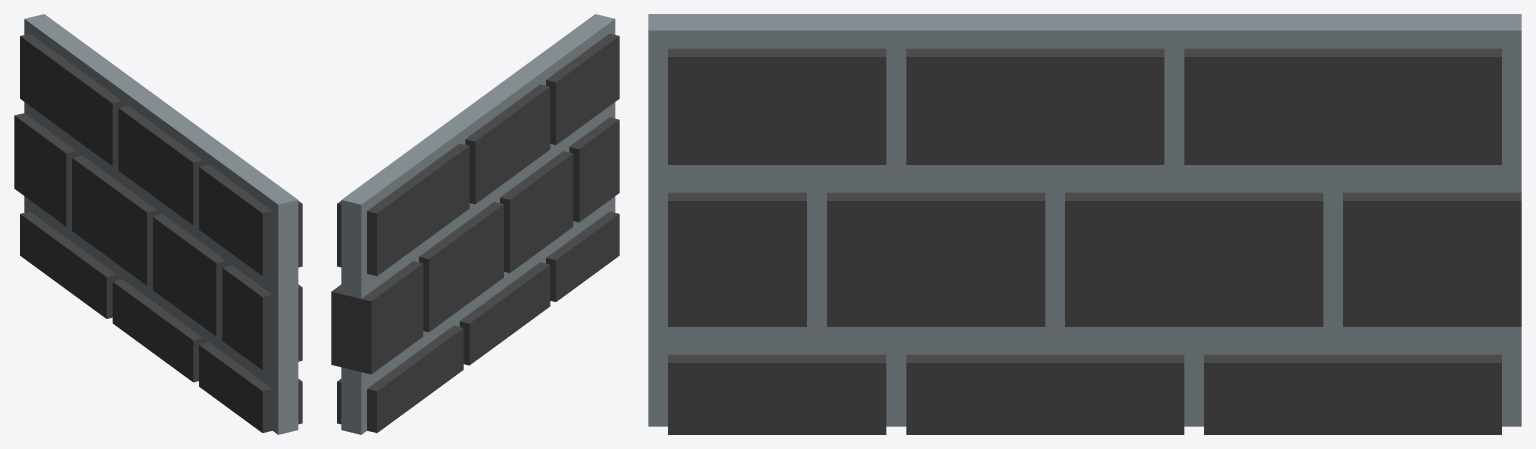
The model's file is wall e.obj.
3 renders of one model, left to right at view 1: azimuth 30°, elevation 25°; view 2: azimuth 150°, elevation 25°; view 3: azimuth 270°, elevation 25°, orthographic. The views are drawn at different scales.
Size of the model in its own units: 0.4 by 2.2 by 4.4.
1 material, 1 textured.
